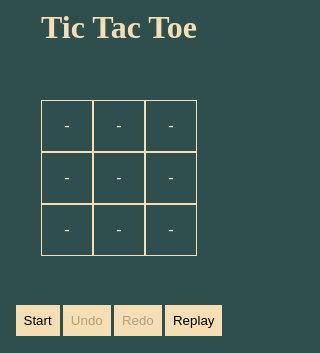
tic-tac-toe › As a player › on make move › should be able to mark a cell with alternate symbol
The width and height of the screenshot is (320, 353).
Click the 1st text "-" at (67, 126), box [41, 100, 93, 152]
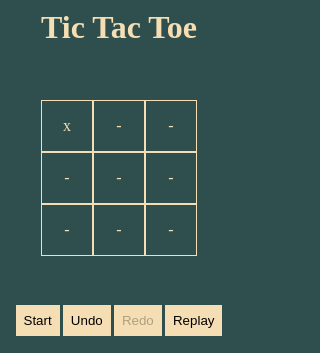
Now the text "x" is shown, box [41, 100, 93, 152]
Click the 1st text "-" at (119, 126), box [93, 100, 145, 152]
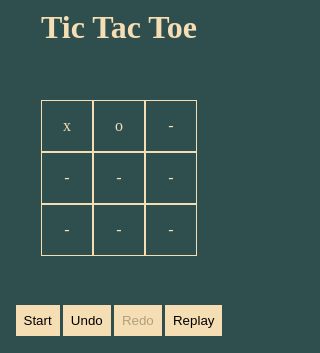
Now the text "o" is shown, box [93, 100, 145, 152]
